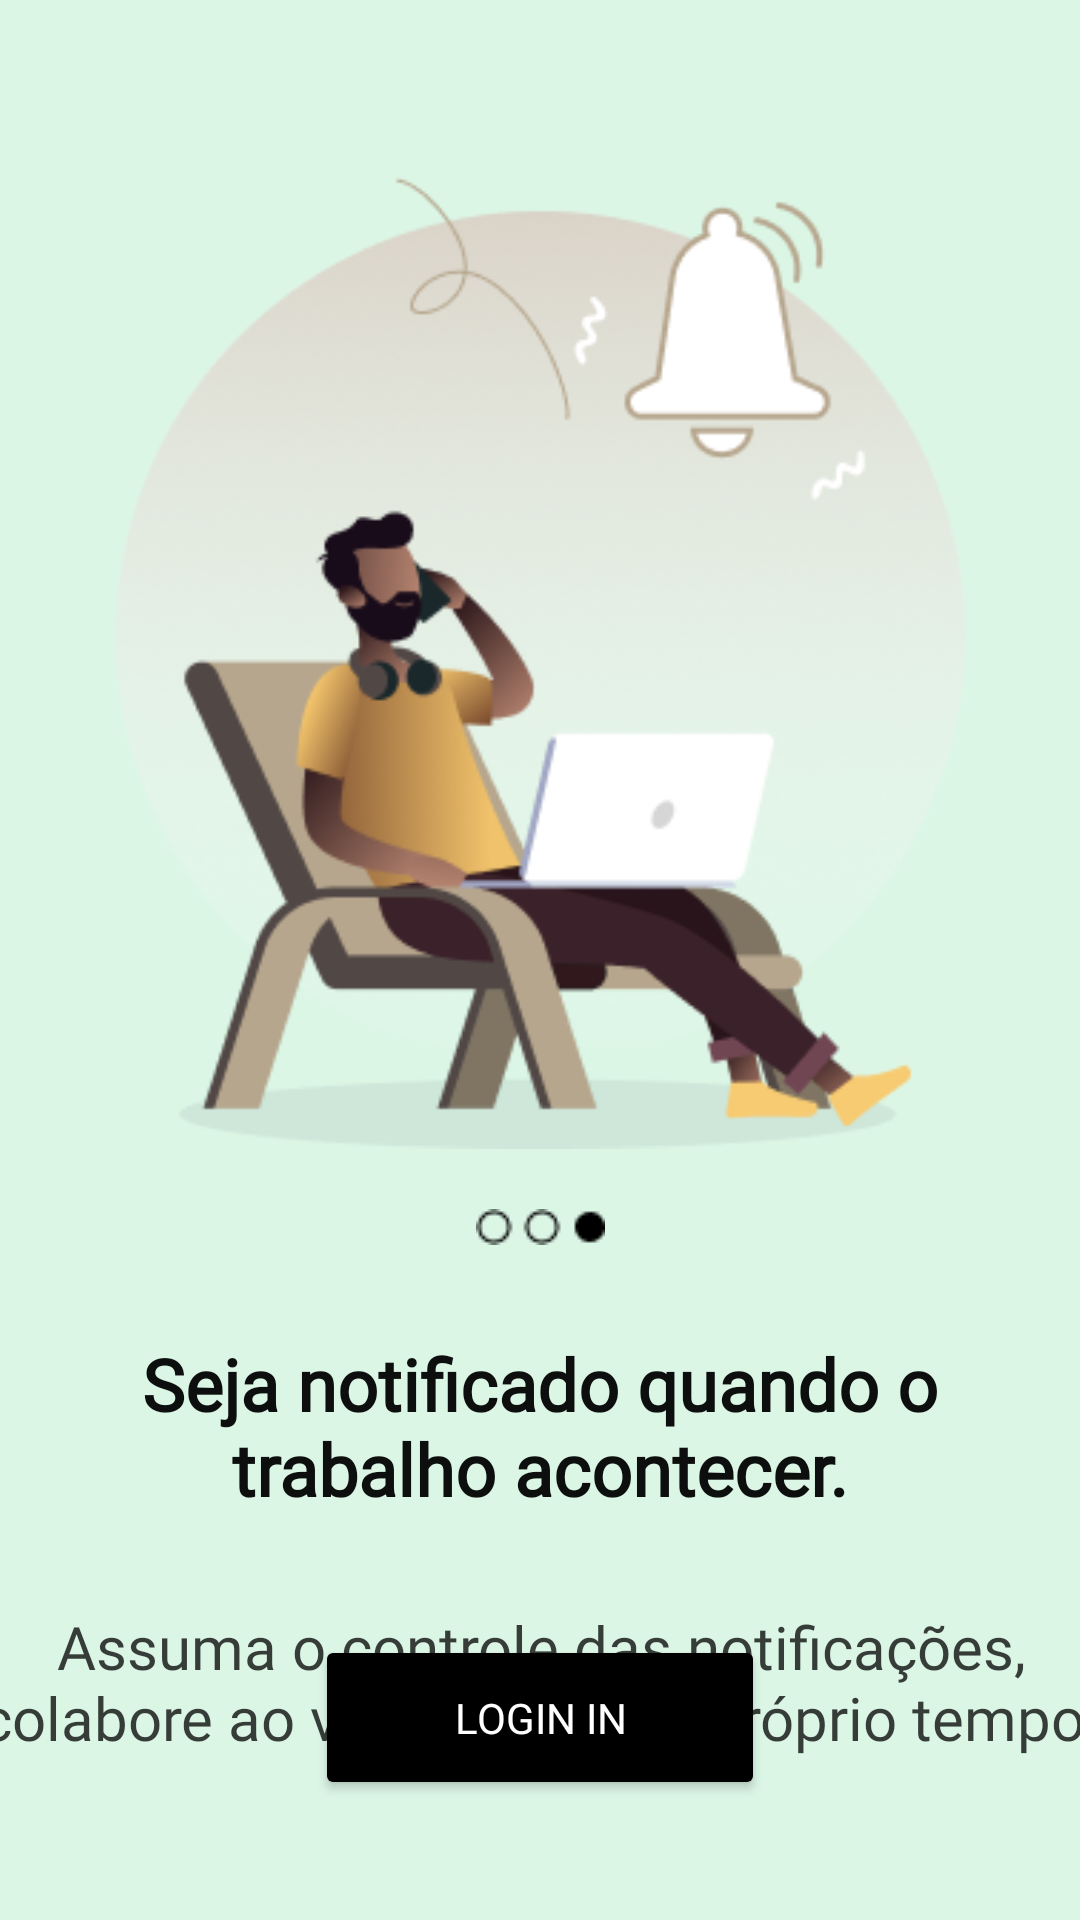

Named icons in this screenshot (1080px×1920px) and their bounding boxes, [x1, y1, x2, y2]:
third roll view: [476, 1209, 605, 1245]
